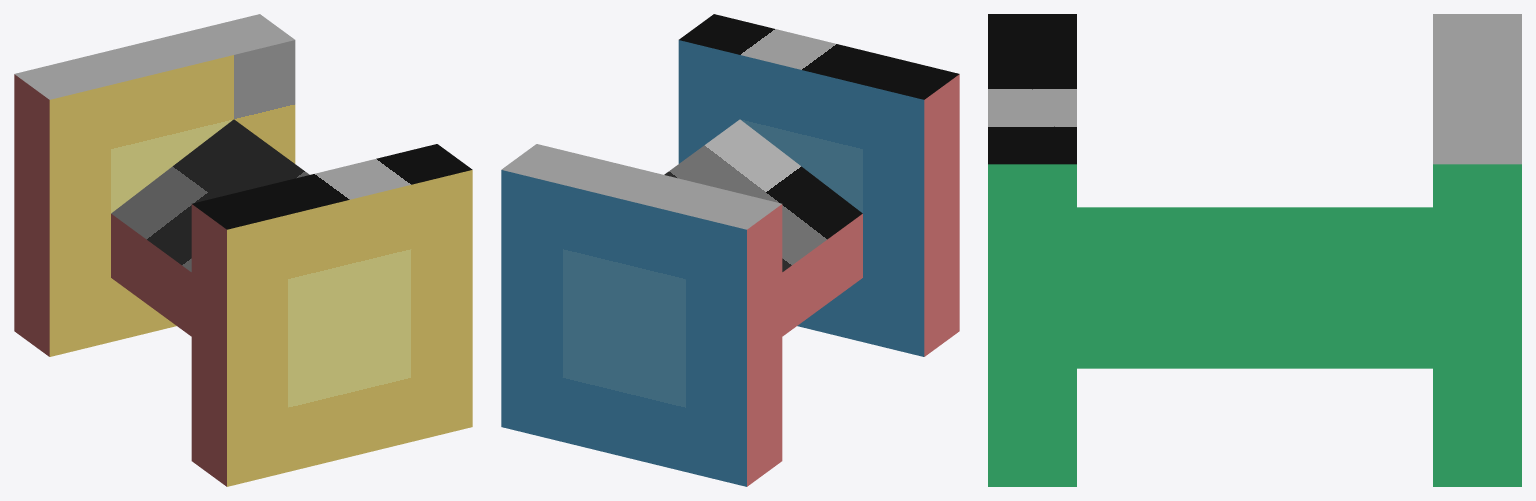
Rendered from mothership.gltf.
3 renders of one model, left to right at view 1: azimuth 30°, elevation 25°; view 2: azimuth 150°, elevation 25°; view 3: azimuth 270°, elevation 25°, orthographic. The views are drawn at different scales.
Visible parts, largest first — view 1: cube (×3); view 2: cube (×3); view 3: cube (×3).
Boxes of the visible parts, box(x1,y1,x2,y2) form: cube (×3): box(14, 14, 472, 486); cube (×3): box(501, 14, 959, 486); cube (×3): box(988, 14, 1521, 486).
Size of the model in its own units: 0.25 by 0.25 by 0.375.
Materials: 1 (1 with a texture image).
